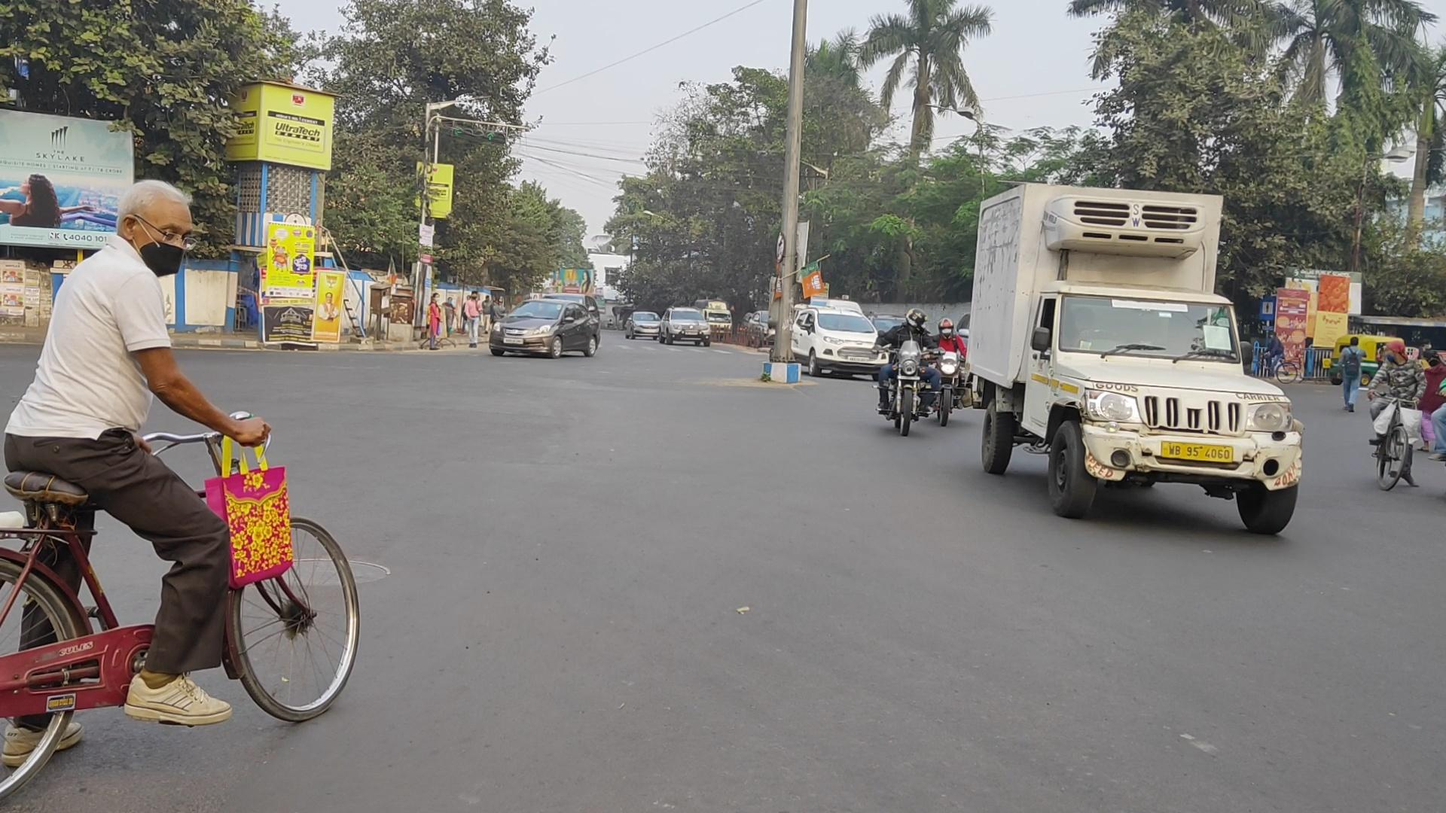Auto: (1330, 334, 1407, 388)
bike: (1, 179, 361, 813), (1368, 340, 1429, 492), (872, 308, 944, 435), (923, 316, 971, 426), (1249, 330, 1298, 384)
car: (790, 306, 889, 381), (490, 297, 601, 360), (659, 306, 712, 349), (624, 311, 661, 340)
van: (966, 182, 1305, 537), (697, 298, 732, 342)
